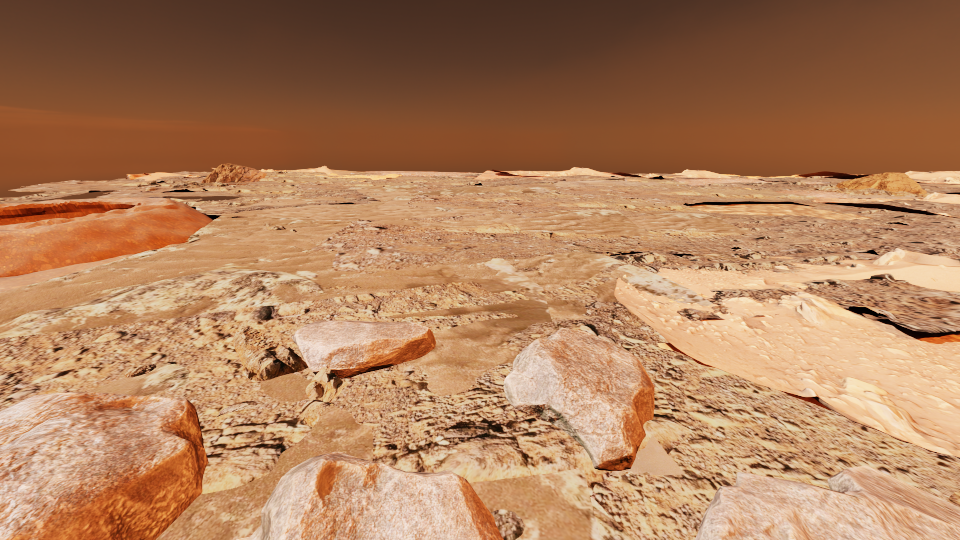bedrock: (197, 325, 959, 539), (434, 202, 959, 273), (107, 176, 378, 213), (801, 273, 959, 332), (645, 176, 959, 200), (677, 288, 797, 320), (438, 175, 692, 188), (371, 315, 486, 332), (546, 201, 705, 213), (0, 190, 112, 203), (582, 301, 627, 315), (379, 172, 480, 178), (465, 196, 542, 202), (125, 363, 156, 377), (259, 178, 364, 182), (265, 171, 326, 177), (339, 183, 396, 186), (649, 173, 683, 177), (264, 223, 285, 229), (549, 175, 605, 177), (111, 178, 144, 180), (936, 184, 959, 186), (402, 180, 444, 181), (146, 187, 156, 191), (589, 188, 608, 190)
rocks: (0, 392, 208, 539), (237, 451, 503, 539), (503, 327, 653, 470), (695, 466, 959, 539), (292, 320, 435, 378), (836, 172, 926, 193), (201, 163, 266, 182)
sand: (0, 187, 757, 394), (156, 405, 372, 539), (469, 467, 634, 539), (683, 201, 871, 219), (87, 364, 189, 395), (260, 373, 311, 401), (303, 170, 428, 180), (235, 196, 347, 207), (658, 343, 711, 366), (784, 392, 830, 409), (474, 171, 542, 179)
soil: (498, 277, 959, 477), (0, 281, 528, 411), (0, 180, 262, 291), (311, 219, 753, 273), (399, 174, 912, 219), (630, 251, 947, 298), (227, 177, 477, 192), (538, 263, 625, 302), (518, 172, 608, 181), (795, 173, 861, 179), (915, 180, 959, 188), (906, 209, 950, 216), (704, 213, 761, 218), (345, 171, 415, 175), (474, 313, 517, 319), (947, 492, 959, 506), (174, 171, 210, 175), (931, 193, 959, 198), (177, 177, 205, 182), (516, 267, 543, 272), (284, 171, 327, 174), (327, 285, 360, 288), (792, 286, 805, 293), (434, 172, 470, 174), (131, 174, 142, 178)
